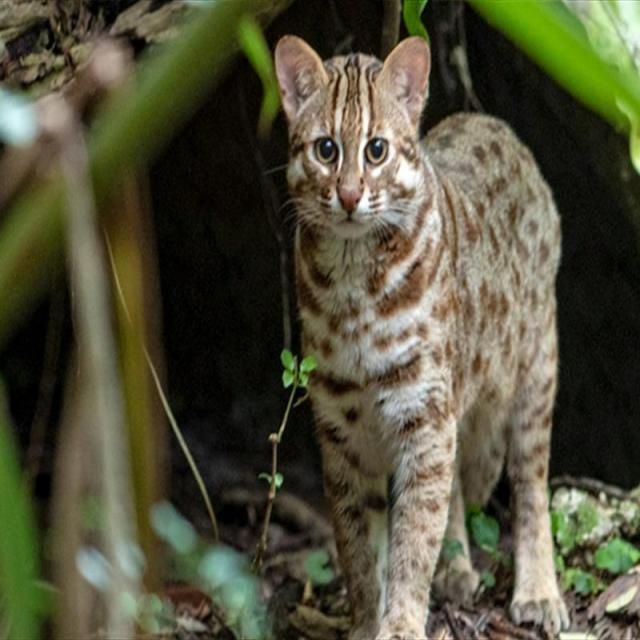leopard: (224, 13, 590, 601)
